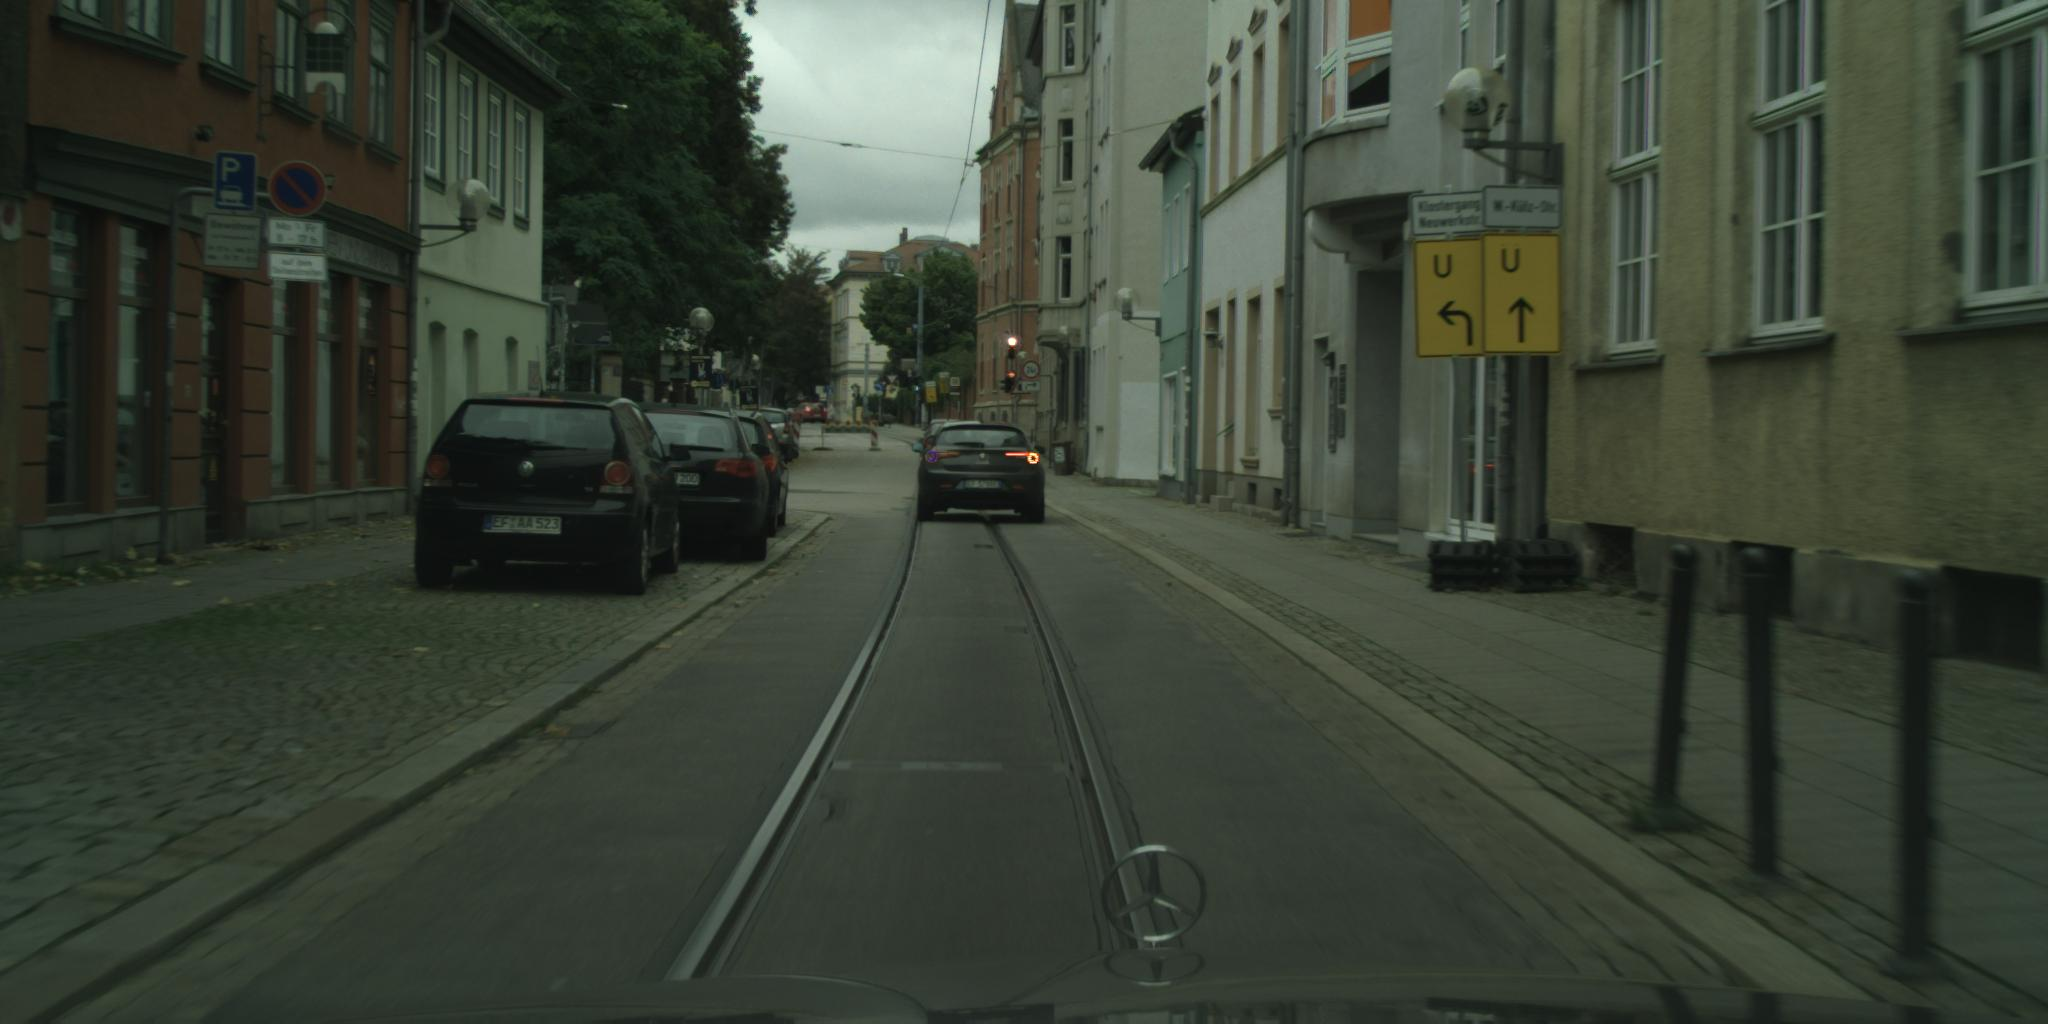car: (415, 391, 694, 596), (632, 402, 772, 563), (912, 424, 1048, 525), (731, 410, 799, 539), (756, 409, 795, 464), (916, 422, 963, 465), (936, 422, 985, 444), (792, 404, 828, 424), (933, 421, 967, 431)
